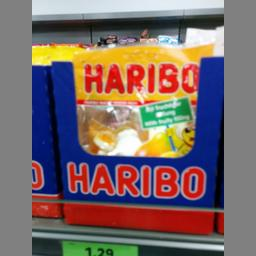candy: (58, 44, 215, 158)
